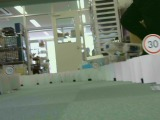speed_30: (140, 33, 160, 56)
